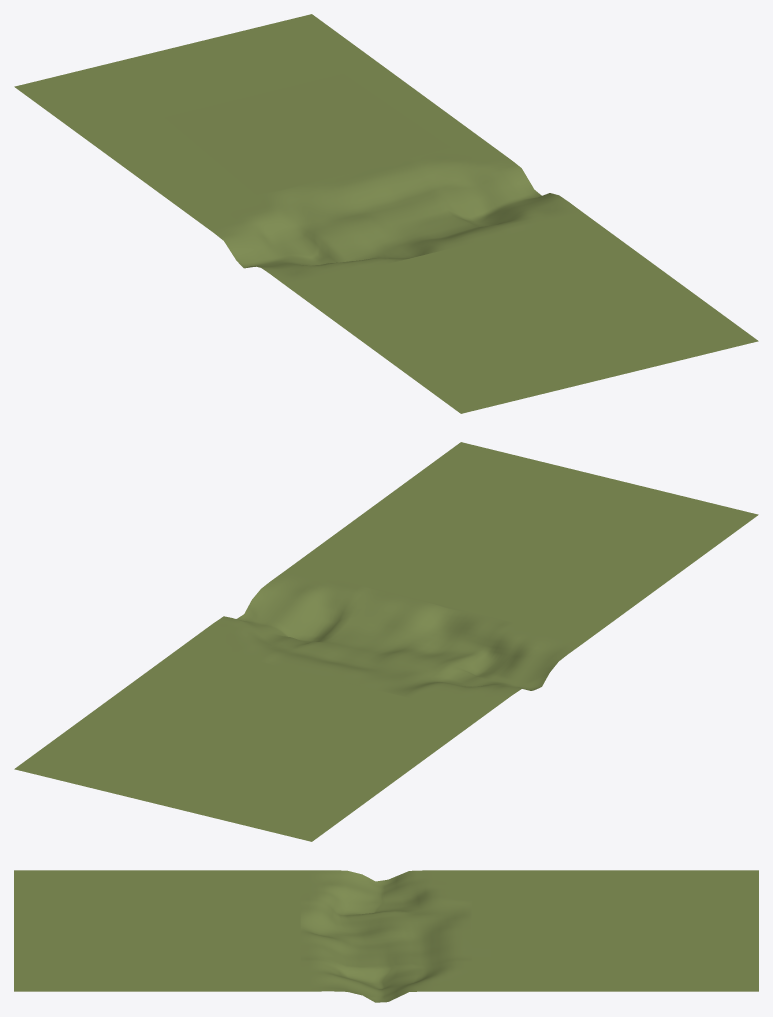
File: 2_2 Tile_2_smooth.fbx
3 views of the same model, one above another, from view 1: azimuth 30°, elevation 25°; view 2: azimuth 150°, elevation 25°; view 3: azimuth 270°, elevation 25° (orthographic). The views are drawn at different scales.
Visible parts, largest first — view 1: Tile 6.001; view 2: Tile 6.001; view 3: Tile 6.001.
Boxes of the visible parts, x1,y1,x2,y2 form: Tile 6.001: [14, 14, 758, 413]; Tile 6.001: [14, 442, 758, 841]; Tile 6.001: [14, 870, 758, 1002].
Size of the model in its own units: 5000 by 366 by 12991.
